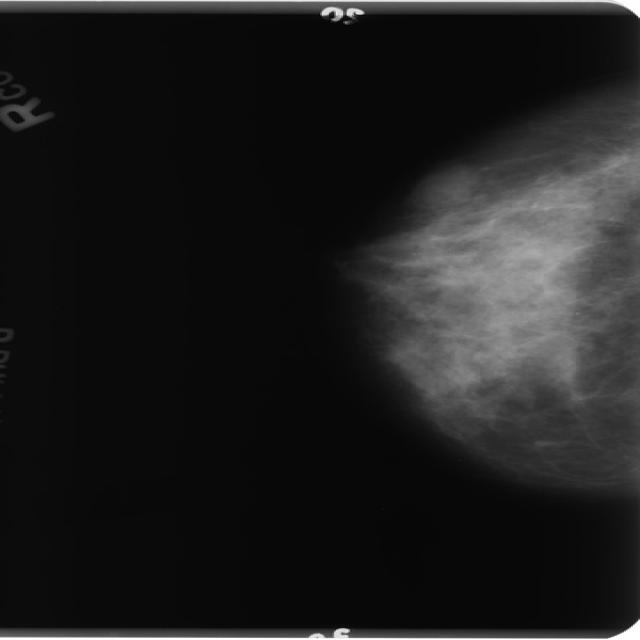tumour: (407, 163, 475, 207)
